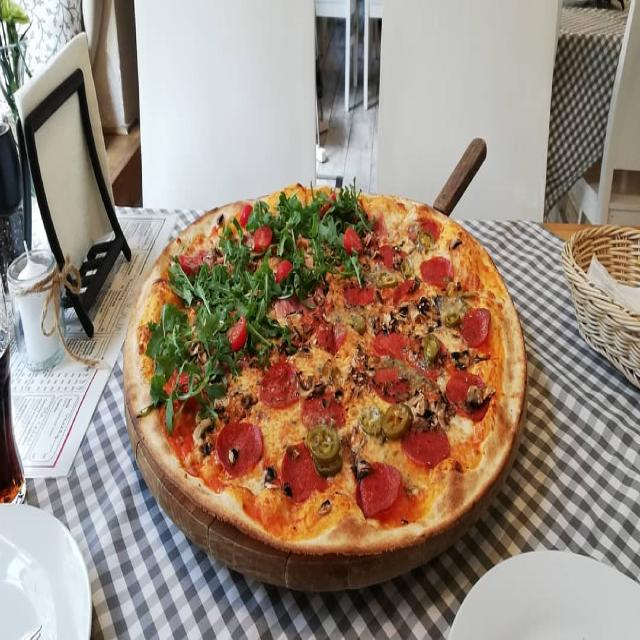mushrooms: (346, 343, 374, 392), (408, 388, 438, 428), (466, 384, 496, 408), (192, 417, 215, 446), (436, 396, 454, 431), (371, 312, 395, 337), (233, 388, 259, 410), (298, 375, 316, 398), (354, 455, 371, 479), (309, 379, 328, 399), (261, 467, 278, 488), (416, 296, 432, 315), (317, 498, 333, 516), (397, 299, 411, 319), (215, 394, 231, 410), (449, 235, 464, 252), (393, 253, 405, 270)
pepperoni: (281, 439, 335, 503), (215, 423, 264, 478), (357, 457, 402, 516), (402, 419, 452, 468), (258, 356, 300, 412), (446, 370, 489, 424), (407, 332, 450, 380), (299, 393, 348, 435), (372, 367, 418, 403), (459, 306, 491, 350), (370, 330, 408, 364), (316, 321, 348, 359), (420, 254, 454, 288), (408, 215, 440, 249), (393, 278, 425, 310), (375, 244, 410, 273), (344, 280, 377, 307)
pizza: (122, 178, 528, 562)
tomatoes: (228, 314, 246, 349), (179, 254, 202, 280), (343, 225, 362, 254), (253, 224, 274, 250), (321, 192, 337, 220), (276, 260, 292, 285), (240, 204, 255, 225)
